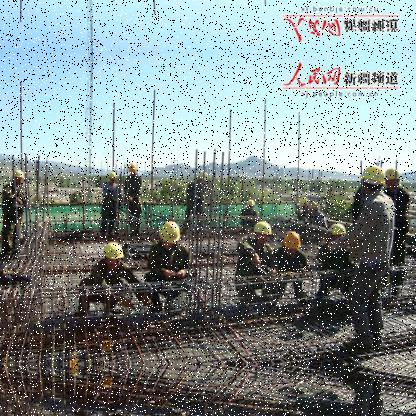Helmet: (355, 161, 388, 198), (378, 162, 410, 195), (160, 218, 182, 251), (326, 220, 347, 251), (103, 238, 122, 271), (252, 216, 272, 245), (282, 229, 302, 258), (10, 165, 32, 190), (103, 166, 122, 184), (244, 195, 258, 214), (126, 158, 138, 179)
